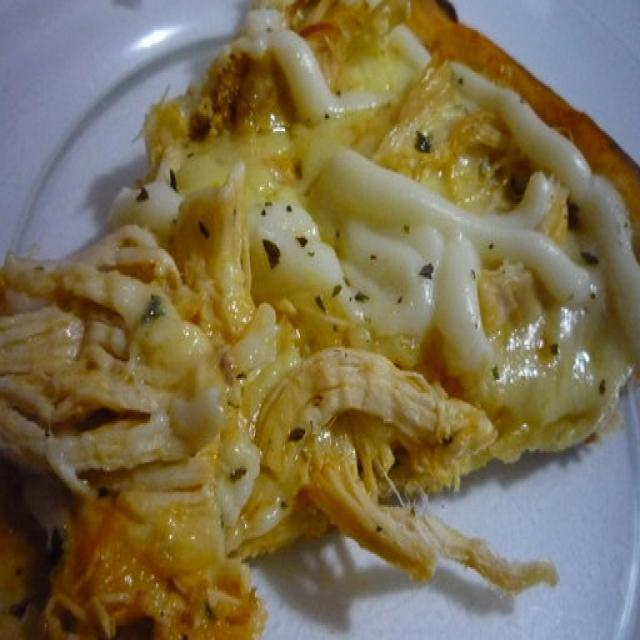Cheese: (318, 162, 590, 373), (453, 64, 637, 357), (272, 28, 380, 123)
Chicken: (256, 350, 553, 596), (8, 308, 214, 468), (175, 1, 366, 165), (64, 523, 218, 630)
Pizza: (0, 0, 640, 640)
